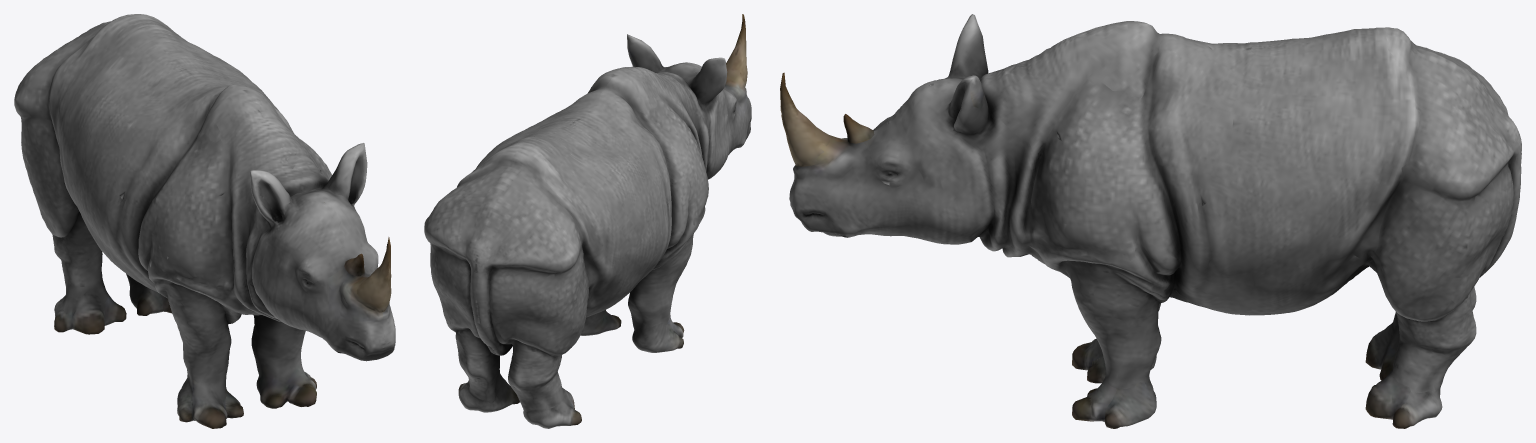
File: MZ4250 - Rhinoceros.glb
3 views of the same model, side by side, from view 1: azimuth 30°, elevation 25°; view 2: azimuth 150°, elevation 25°; view 3: azimuth 270°, elevation 25° (orthographic). The views are drawn at different scales.
Visible parts, largest first — view 1: Rhino sculpted.001; view 2: Rhino sculpted.001; view 3: Rhino sculpted.001.
Boxes of the visible parts, bbox=[...] form: Rhino sculpted.001: bbox=[14, 14, 395, 428]; Rhino sculpted.001: bbox=[424, 14, 751, 428]; Rhino sculpted.001: bbox=[780, 14, 1521, 428].
Bounding box in the file's own units: 0.6437 × 0.9883 × 1.81.
Materials: 1 (1 with a texture image).
